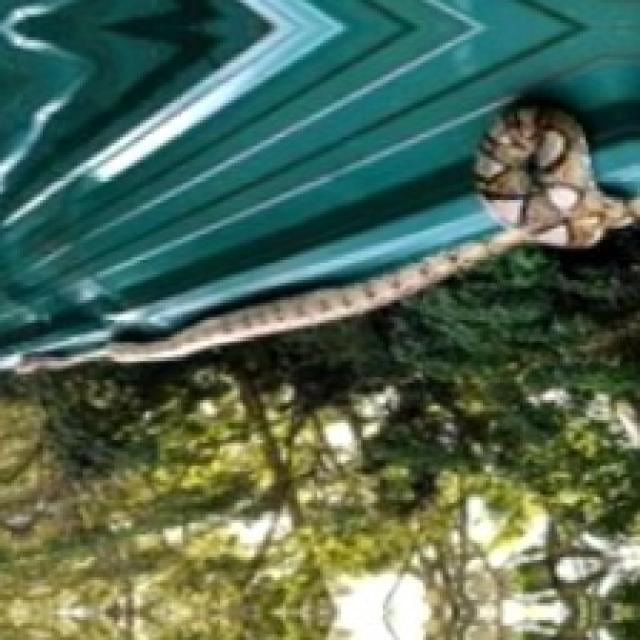reticulated python: (3, 103, 637, 369), (474, 103, 637, 246)
